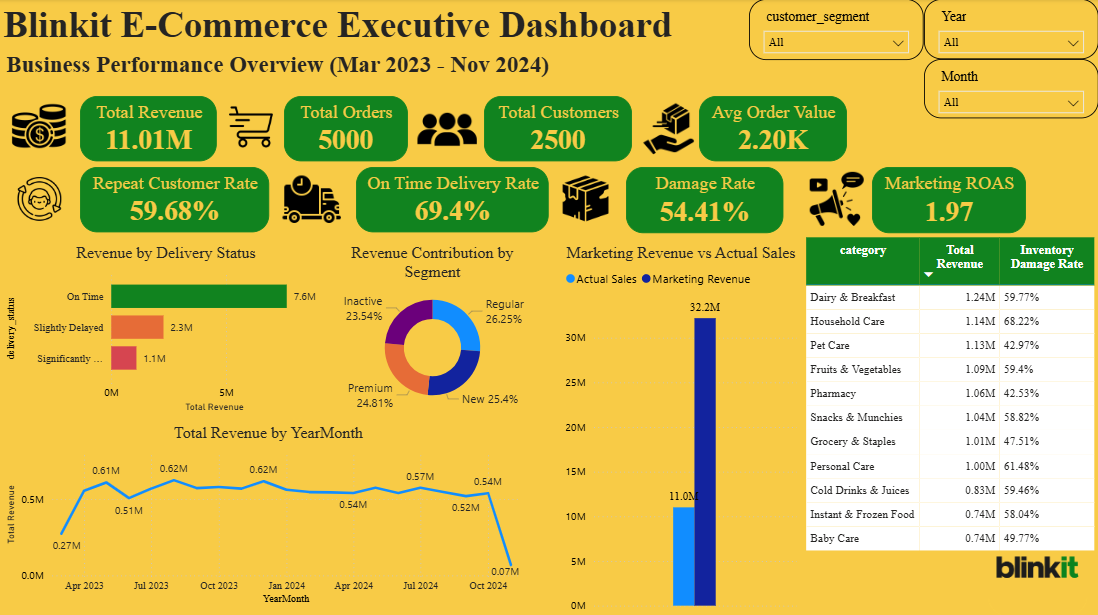

What the dashboard file says about the page in this screenshot:
{"tool":"powerbi","page":{"name":"Executive Dashboard","canvas":[1280,720],"ordinal":0},"visuals":[{"type":"card","title":"Total Revenue","fields":{"Values":["Measure.Total Revenue"]},"box":[95.7,112.8,159.5,76.3],"z":0},{"type":"card","title":"Total Orders","fields":{"Values":["Measure.Total Orders"]},"box":[332.7,112.8,143.5,76.3],"z":1000},{"type":"card","title":"Total Customers","fields":{"Values":["Measure.Total Customers"]},"box":[565.1,112.8,172,76.3],"z":2000},{"type":"image","box":[0,103.7,95.7,91.1],"z":3000},{"type":"image","box":[268.9,119.6,51.3,58.1],"z":4000},{"type":"image","box":[476.2,117.3,91.1,68.4],"z":5000},{"type":"card","title":"Avg Order Value","fields":{"Values":["Measure.Average Order Value"]},"box":[814.6,112.8,172,76.3],"z":6000},{"type":"card","title":"Repeat Customer Rate","fields":{"Values":["Measure.Repeat Customer Rate"]},"box":[95.7,194.8,219.9,76.3],"z":7000},{"type":"card","title":"On Time Delivery Rate","fields":{"Values":["Measure.On Time Delivery Rate"]},"box":[415.8,194.8,224.4,76.3],"z":8000},{"type":"card","title":"Damage Rate","fields":{"Values":["Measure.Inventory Damage Rate"]},"box":[730.1,195.3,182.5,76.7],"z":9000},{"type":"card","title":"Marketing ROAS","fields":{"Values":["Measure.Marketing ROAS"]},"box":[1016.1,195.3,179,76.7],"z":10000},{"type":"textbox","box":[1.1,0,806.6,68.4],"z":11000},{"type":"textbox","box":[4.6,55.8,649.4,47.8],"z":12000},{"type":"donutChart","title":"Revenue Contribution by Segment","fields":{"Category":["blinkit customers.customer_segment"],"Y":["Measure.Total Revenue"]},"box":[386,283.7,238.3,201.1],"z":13000},{"type":"clusteredBarChart","title":"Revenue by Delivery Status","fields":{"Category":["blinkit delivery_performance.delivery_status"],"Y":["Measure.Total Revenue"]},"box":[4.7,283.7,381.3,201.1],"z":14000},{"type":"clusteredColumnChart","title":"Marketing Revenue vs Actual Sales","fields":{"Y":["Measure.Actual Sales","Measure.Marketing Revenue"]},"box":[654.5,283.7,279,436],"z":15000},{"type":"tableEx","fields":{"Values":["blinkit products.category","Measure.Total Revenue","Measure.Inventory Damage Rate"]},"box":[933.6,283.7,346.4,379],"z":16000},{"type":"image","box":[737.1,117.3,85.4,67.2],"z":17000},{"type":"image","box":[4.6,207.3,86.6,51.3],"z":18000},{"type":"image","box":[320.1,199.4,90,68.4],"z":19000},{"type":"slicer","fields":{"Values":["DateTable.Year"]},"box":[1076.5,0,203.5,69.8],"z":20000},{"type":"lineChart","fields":{"Y":["Measure.Total Revenue"],"Category":["DateTable.YearMonth"]},"box":[4.7,492.9,619.7,216.2],"z":20001},{"type":"slicer","fields":{"Values":["DateTable.Month"]},"box":[1076.5,69.8,203.5,68.6],"z":20002},{"type":"slicer","fields":{"Values":["blinkit customers.customer_segment"]},"box":[873.1,0,203.5,70.9],"z":20003},{"type":"image","box":[640.6,203.5,84.9,57],"z":20004},{"type":"image","box":[933.6,198.8,82.5,67.4],"z":20005}]}

Visuals, with their boxes in screenshot pixels (x1, y1, x2, y2), scaled from the page's 1280x720 canvas onto the 1098x615 screenshot:
"Total Revenue" card: 82/96/219/162
"Total Orders" card: 285/96/408/162
"Total Customers" card: 485/96/632/162
image: 0/89/82/166
image: 231/102/275/152
image: 408/100/487/159
"Avg Order Value" card: 699/96/846/162
"Repeat Customer Rate" card: 82/166/271/232
"On Time Delivery Rate" card: 357/166/549/232
"Damage Rate" card: 626/167/783/232
"Marketing ROAS" card: 872/167/1025/232
textbox: 1/0/693/58
textbox: 4/48/561/88
"Revenue Contribution by Segment" donutChart: 331/242/536/414
"Revenue by Delivery Status" clusteredBarChart: 4/242/331/414
"Marketing Revenue vs Actual Sales" clusteredColumnChart: 561/242/801/614
tableEx - blinkit products.category x Measure.Total Revenue: 801/242/1097/566
image: 632/100/706/158
image: 4/177/78/221
image: 275/170/352/229
slicer - DateTable.Year: 923/0/1097/60
lineChart - Measure.Total Revenue x DateTable.YearMonth: 4/421/536/606
slicer - DateTable.Month: 923/60/1097/118
slicer - blinkit customers.customer_segment: 749/0/924/61
image: 550/174/622/223
image: 801/170/872/227
